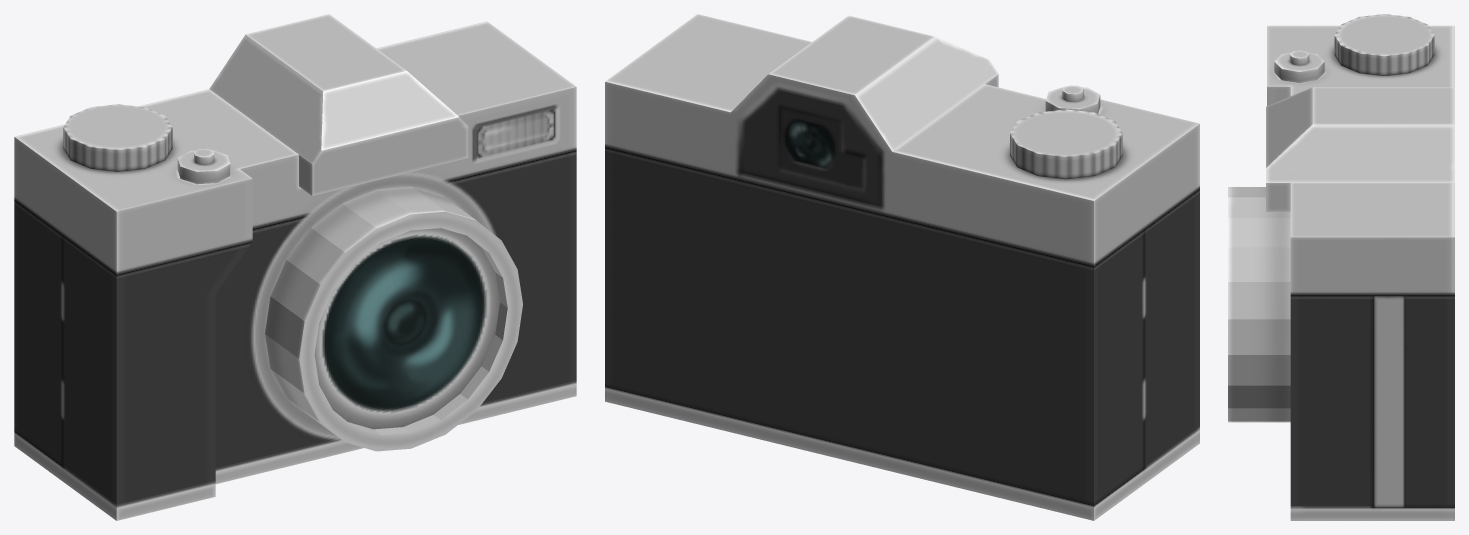
File: Tool_Camera.fbx
3 views of the same model, side by side, from view 1: azimuth 30°, elevation 25°; view 2: azimuth 150°, elevation 25°; view 3: azimuth 270°, elevation 25° (orthographic). The views are drawn at different scales.
Parts seen in each view (by area): view 1: body, lens, dial, shutter; view 2: body, dial, shutter; view 3: body, lens, dial, shutter.
Part boxes in pixels (left/top/right/bottom): body: left=14, top=14, right=576, bottom=520; lens: left=265, top=186, right=522, bottom=451; dial: left=63, top=104, right=172, bottom=171; shutter: left=177, top=148, right=230, bottom=184; body: left=605, top=14, right=1199, bottom=520; dial: left=1010, top=109, right=1122, bottom=179; shutter: left=1045, top=85, right=1100, bottom=113; body: left=1266, top=25, right=1454, bottom=520; lens: left=1228, top=187, right=1290, bottom=422; dial: left=1334, top=14, right=1434, bottom=75; shutter: left=1274, top=50, right=1324, bottom=83.
Size of the model in its own units: 40 by 28.7 by 18.12.
